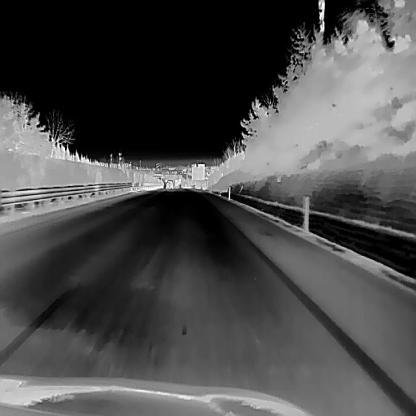car: (165, 179, 173, 189)
